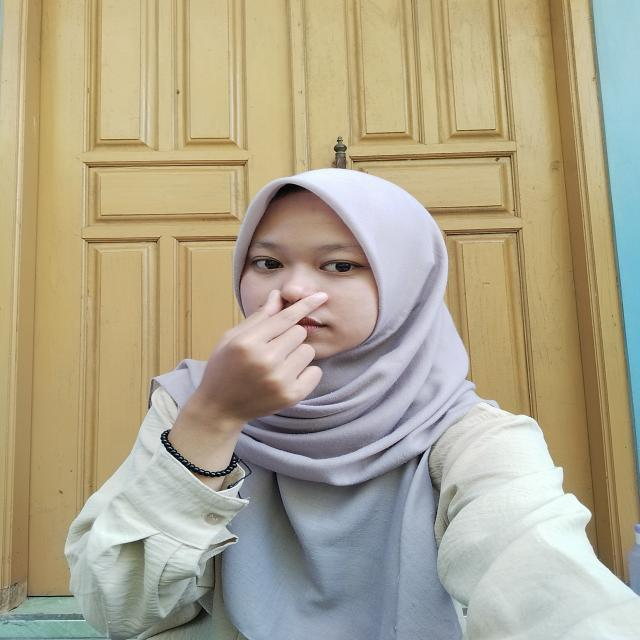bau: (199, 281, 345, 432)
